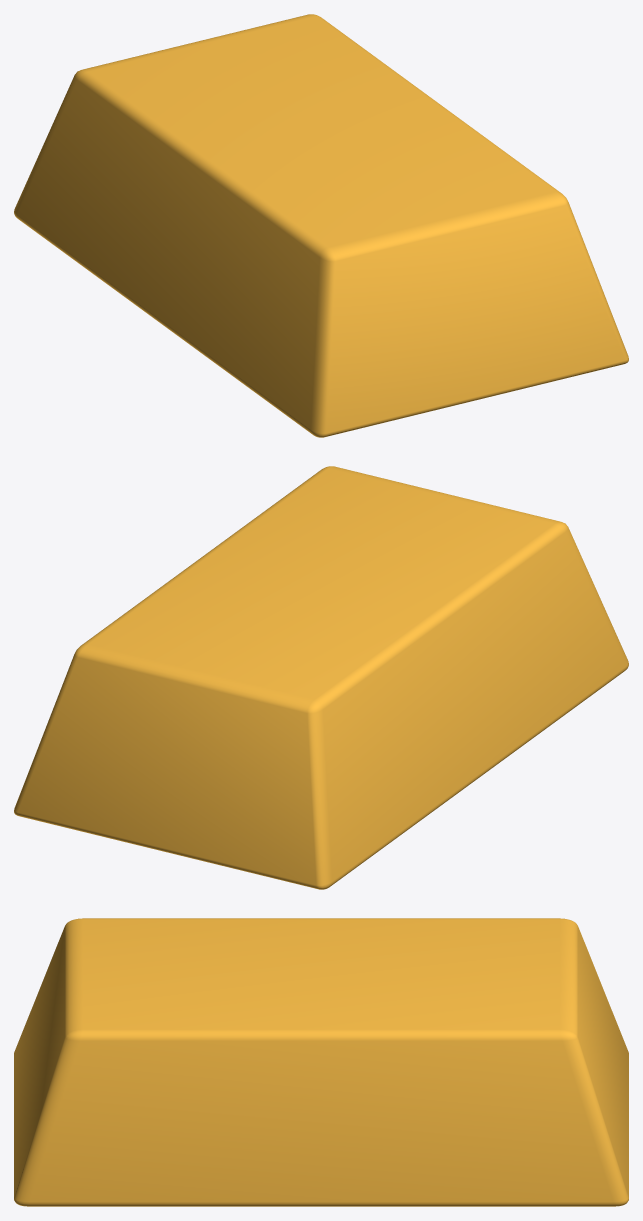
The model's file is gold_bar.fbx.
3 views of the same model, one above another, from view 1: azimuth 30°, elevation 25°; view 2: azimuth 150°, elevation 25°; view 3: azimuth 270°, elevation 25° (orthographic).
Visible parts, largest first — view 1: Cube; view 2: Cube; view 3: Cube.
Boxes of the visible parts, box(x1,y1,x2,y2) form: Cube: box(14, 14, 628, 437); Cube: box(14, 466, 628, 889); Cube: box(14, 918, 628, 1206).
Bounding box in the file's own units: 117 × 56.18 × 198.
